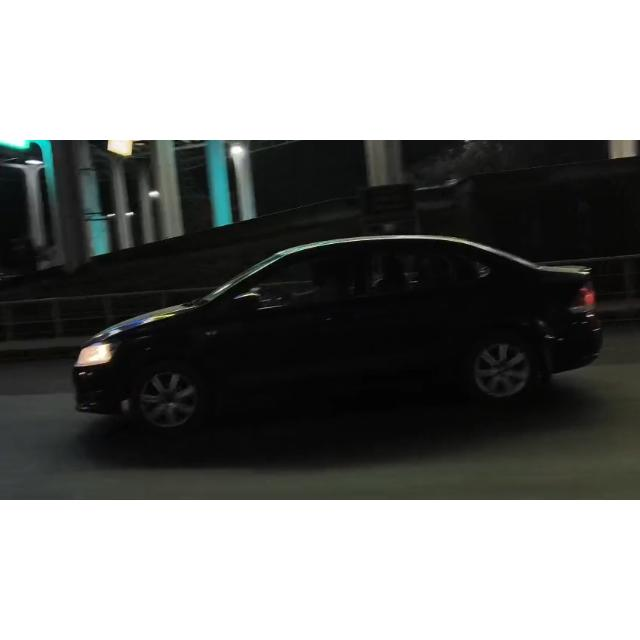car: (60, 222, 616, 458)
